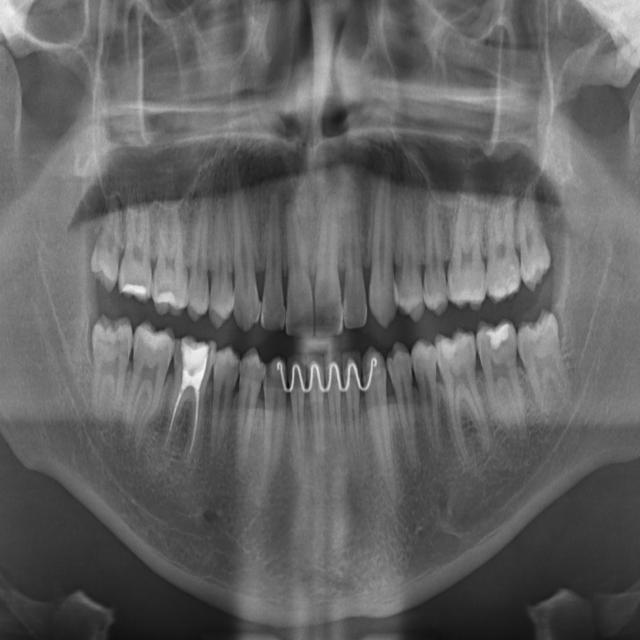CompositeResinRestoration: (480, 318, 514, 358), (491, 267, 521, 304), (155, 284, 187, 314), (118, 278, 150, 305)
DentalCaries: (96, 329, 130, 352), (173, 338, 186, 376), (203, 339, 216, 365)
RootCanalTreatment: (165, 378, 204, 466)
